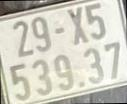-: (54, 26, 65, 35)
.: (79, 80, 85, 89)
2: (12, 20, 34, 57)
3: (84, 48, 105, 84), (32, 60, 52, 96)
5: (9, 63, 31, 99), (85, 4, 107, 40)
7: (104, 41, 122, 78)
9: (53, 54, 75, 91), (31, 15, 52, 53)
X: (66, 5, 89, 45)
